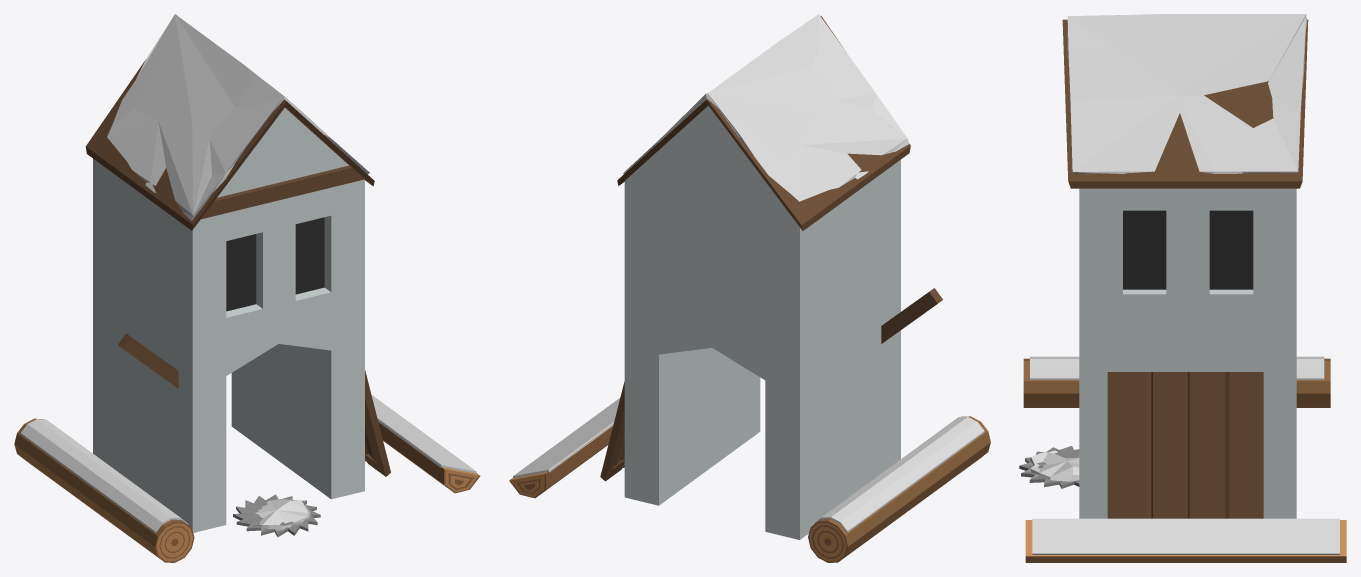
File: SawMill_build_snow_mat.fbx
The picture shows the model from 3 angles, left to right: view 1: azimuth 30°, elevation 25°; view 2: azimuth 150°, elevation 25°; view 3: azimuth 270°, elevation 25°; orthographic projection. The views are drawn at different scales.
Visible parts, largest first — view 1: SawMill_build_snow_mat; view 2: SawMill_build_snow_mat; view 3: SawMill_build_snow_mat.
Part boxes in pixels (x1,y1,x2,y2): SawMill_build_snow_mat: [14, 14, 480, 562]; SawMill_build_snow_mat: [509, 14, 990, 562]; SawMill_build_snow_mat: [1019, 14, 1346, 562].
Bounding box in the file's own units: 3.1 × 3.87 × 2.47.
